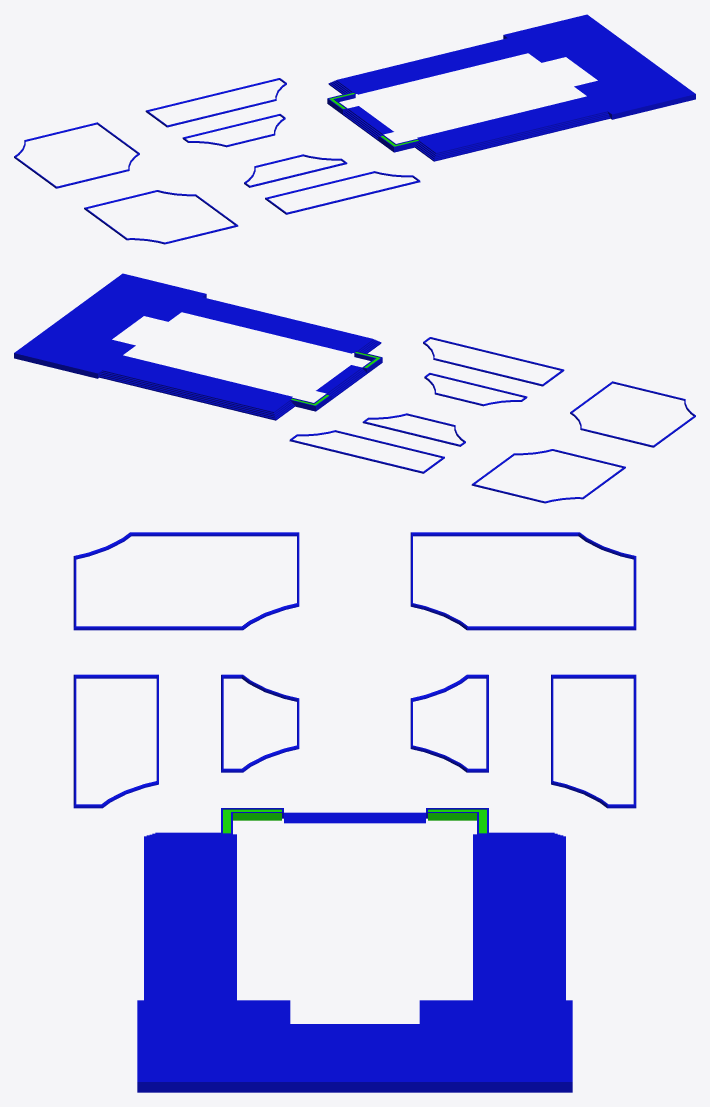
File: churchPatio.fbx
The picture shows the model from 3 angles, top to bottom: view 1: azimuth 30°, elevation 25°; view 2: azimuth 150°, elevation 25°; view 3: azimuth 270°, elevation 25°; orthographic projection. The views are drawn at different scales.
Parts seen in each view (by area): view 1: churchPatio; view 2: churchPatio; view 3: churchPatio.
Boxes of the visible parts, x1,y1,x2,y2 form: churchPatio: (14, 14, 695, 244); churchPatio: (14, 273, 695, 503); churchPatio: (73, 532, 636, 1092).
Bounding box in the file's own units: 11755 × 107 × 5010.
